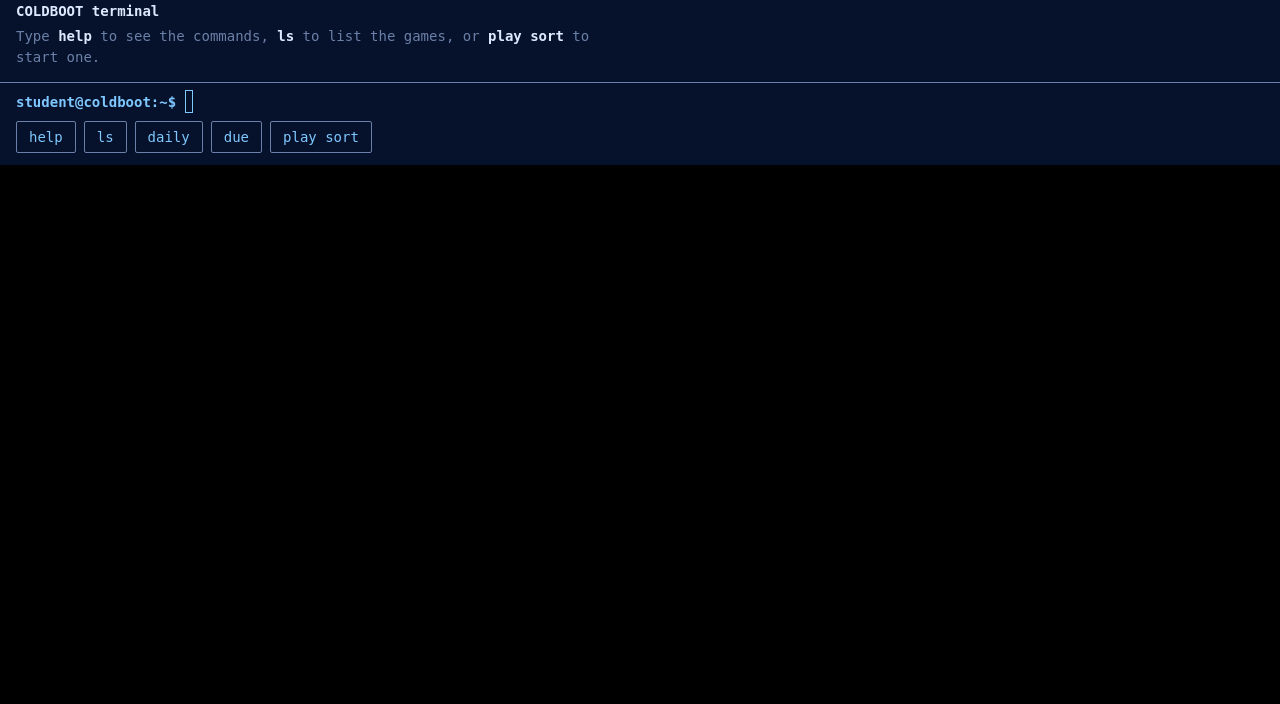
Test: daily challenge in the terminal › carries on from the stored record when the Daily screen answered questions meanwhile
Type "daily" into the field labelled "student@coldboot:~$" at (724, 102), box [185,90,1264,113]
Then press Enter
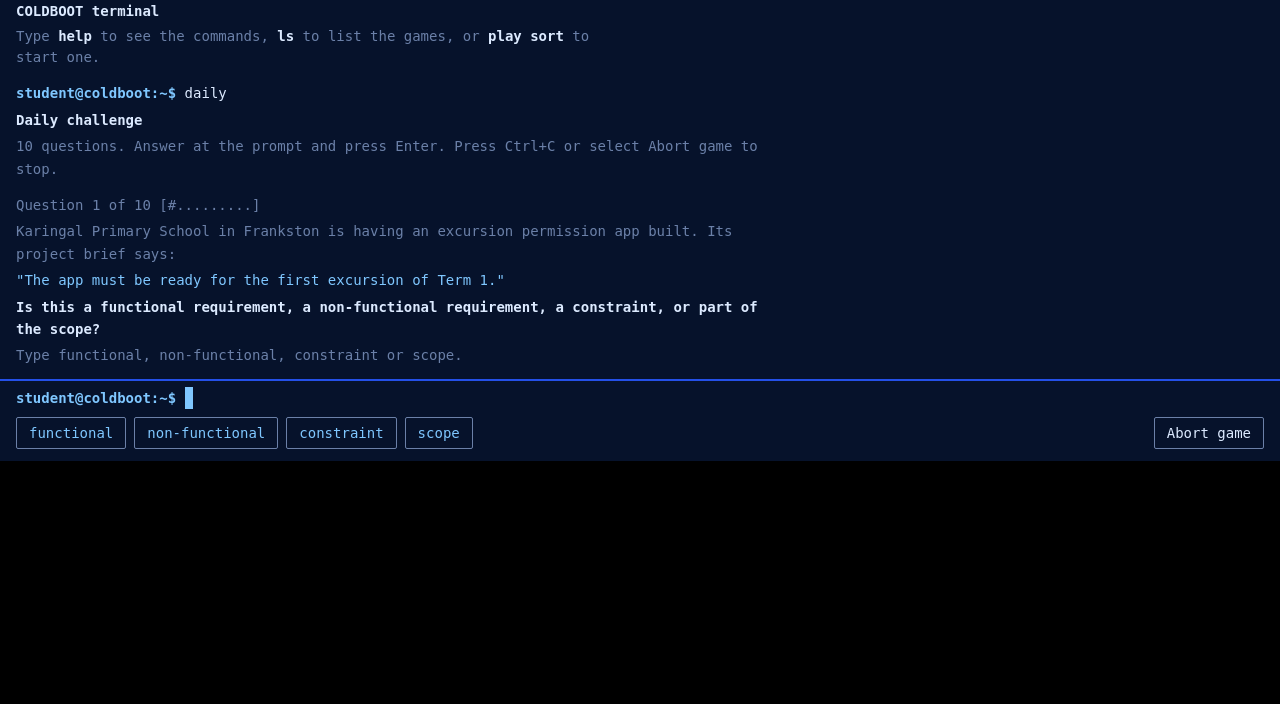
Result: the text "daily" is shown at [185,85,227,101]
Type "Constraint" into the field labelled "student@coldboot:~$" at (724, 398), box [185,387,1264,409]
Then press Enter
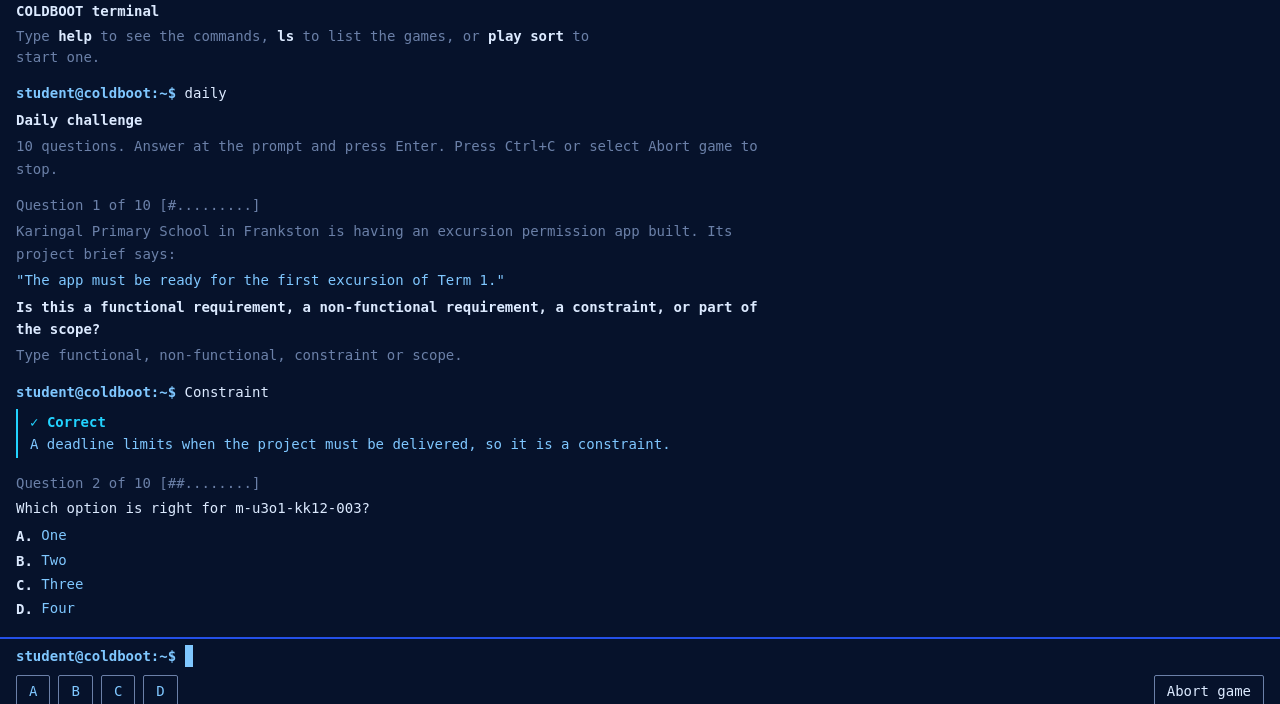
Type "C" into the field labelled "student@coldboot:~$" at (724, 656), box [185,645,1264,667]
Then press Enter
(page scrolled)
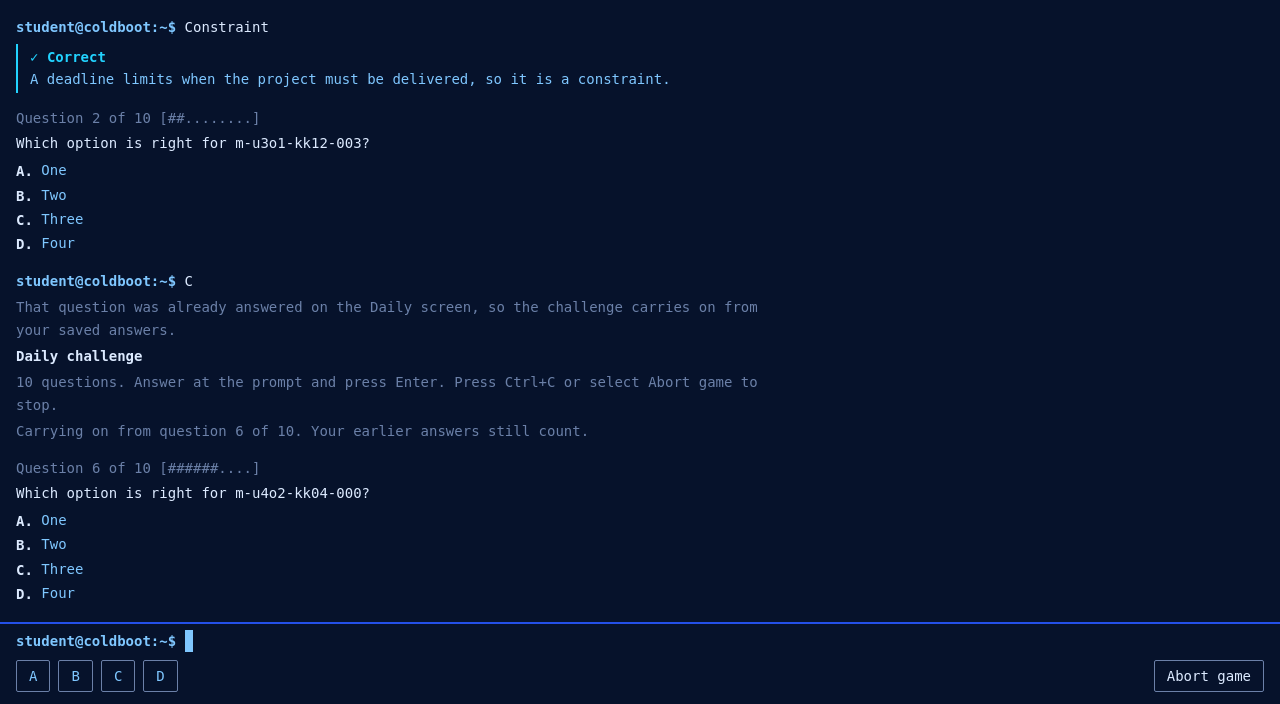
Result: the text "That question was already answered on the Daily screen, so the challenge carries on from your saved answers." is shown at [16,299,766,338]
Type "C" into the field labelled "student@coldboot:~$" at (724, 641), box [185,630,1264,652]
Then press Enter
(page scrolled)
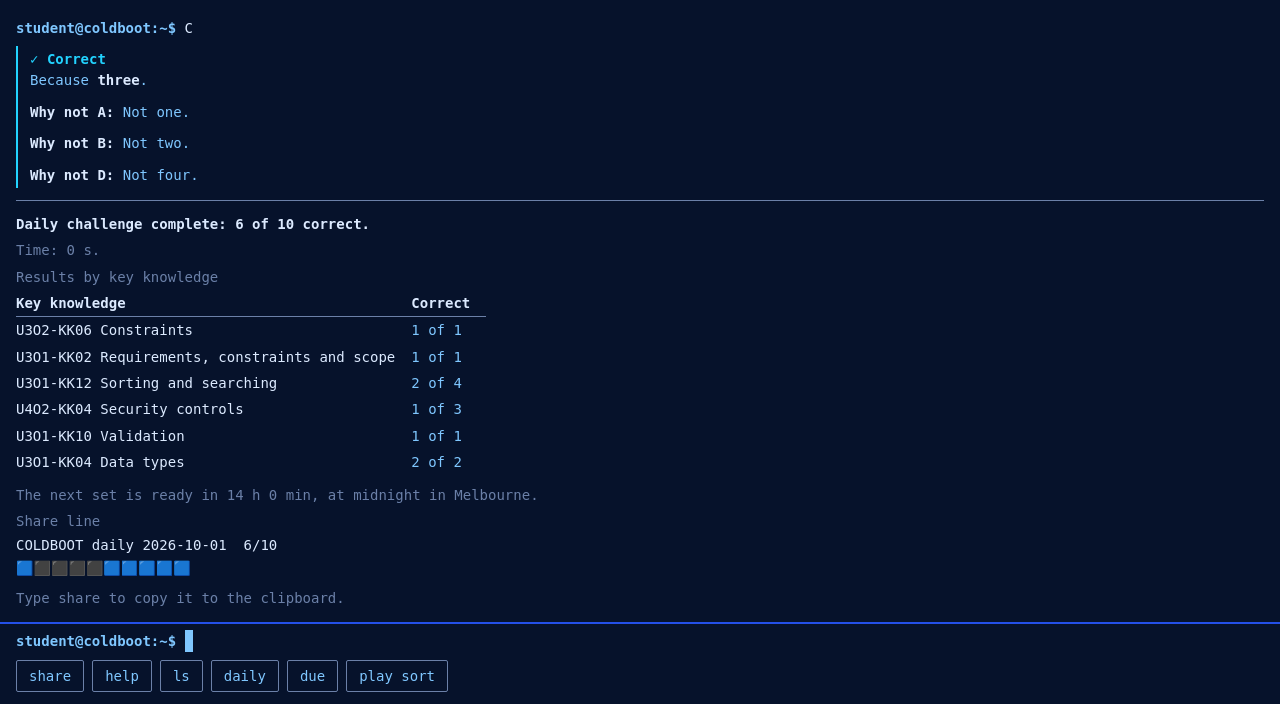
Result: the text "Daily challenge complete: 6 of 10 correct." is shown at [16,216,370,232]
